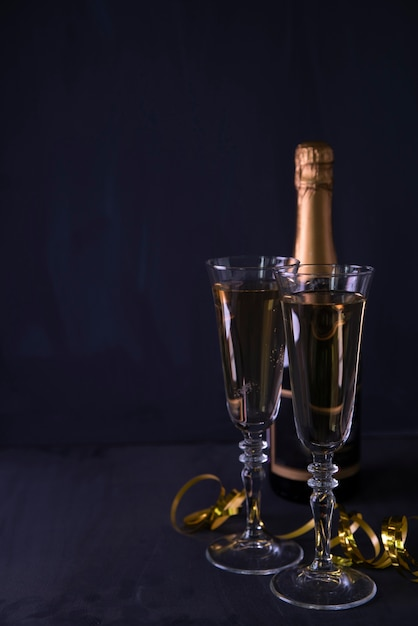alcohol: (272, 265, 379, 611), (198, 255, 310, 581), (265, 142, 364, 500)
